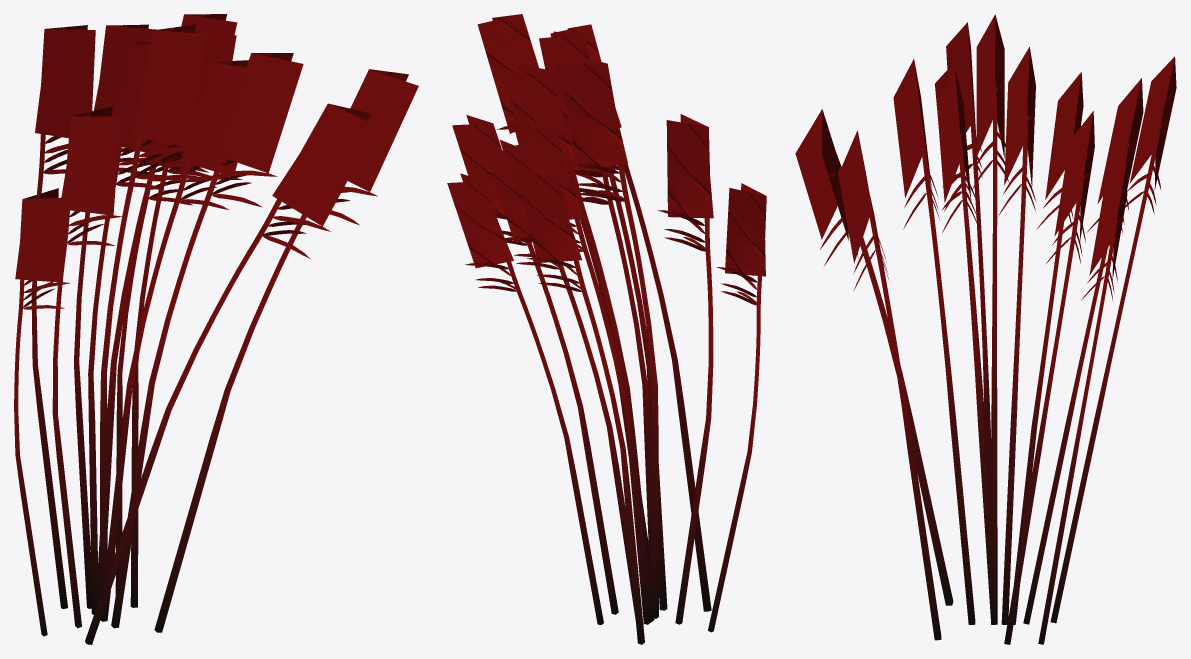
The model's file is common-reed-group.fbx.
The picture shows the model from 3 angles, left to right: view 1: azimuth 30°, elevation 25°; view 2: azimuth 150°, elevation 25°; view 3: azimuth 270°, elevation 25°; orthographic projection. The views are drawn at different scales.
Parts seen in each view (by area): view 1: Reed.013; view 2: Reed.013; view 3: Reed.013.
Part boxes in pixels (left/top/right/bottom): Reed.013: left=14, top=14, right=418, bottom=644; Reed.013: left=447, top=14, right=766, bottom=644; Reed.013: left=795, top=14, right=1176, bottom=644.
Bounding box in the file's own units: 69.66 × 111 × 59.55.
